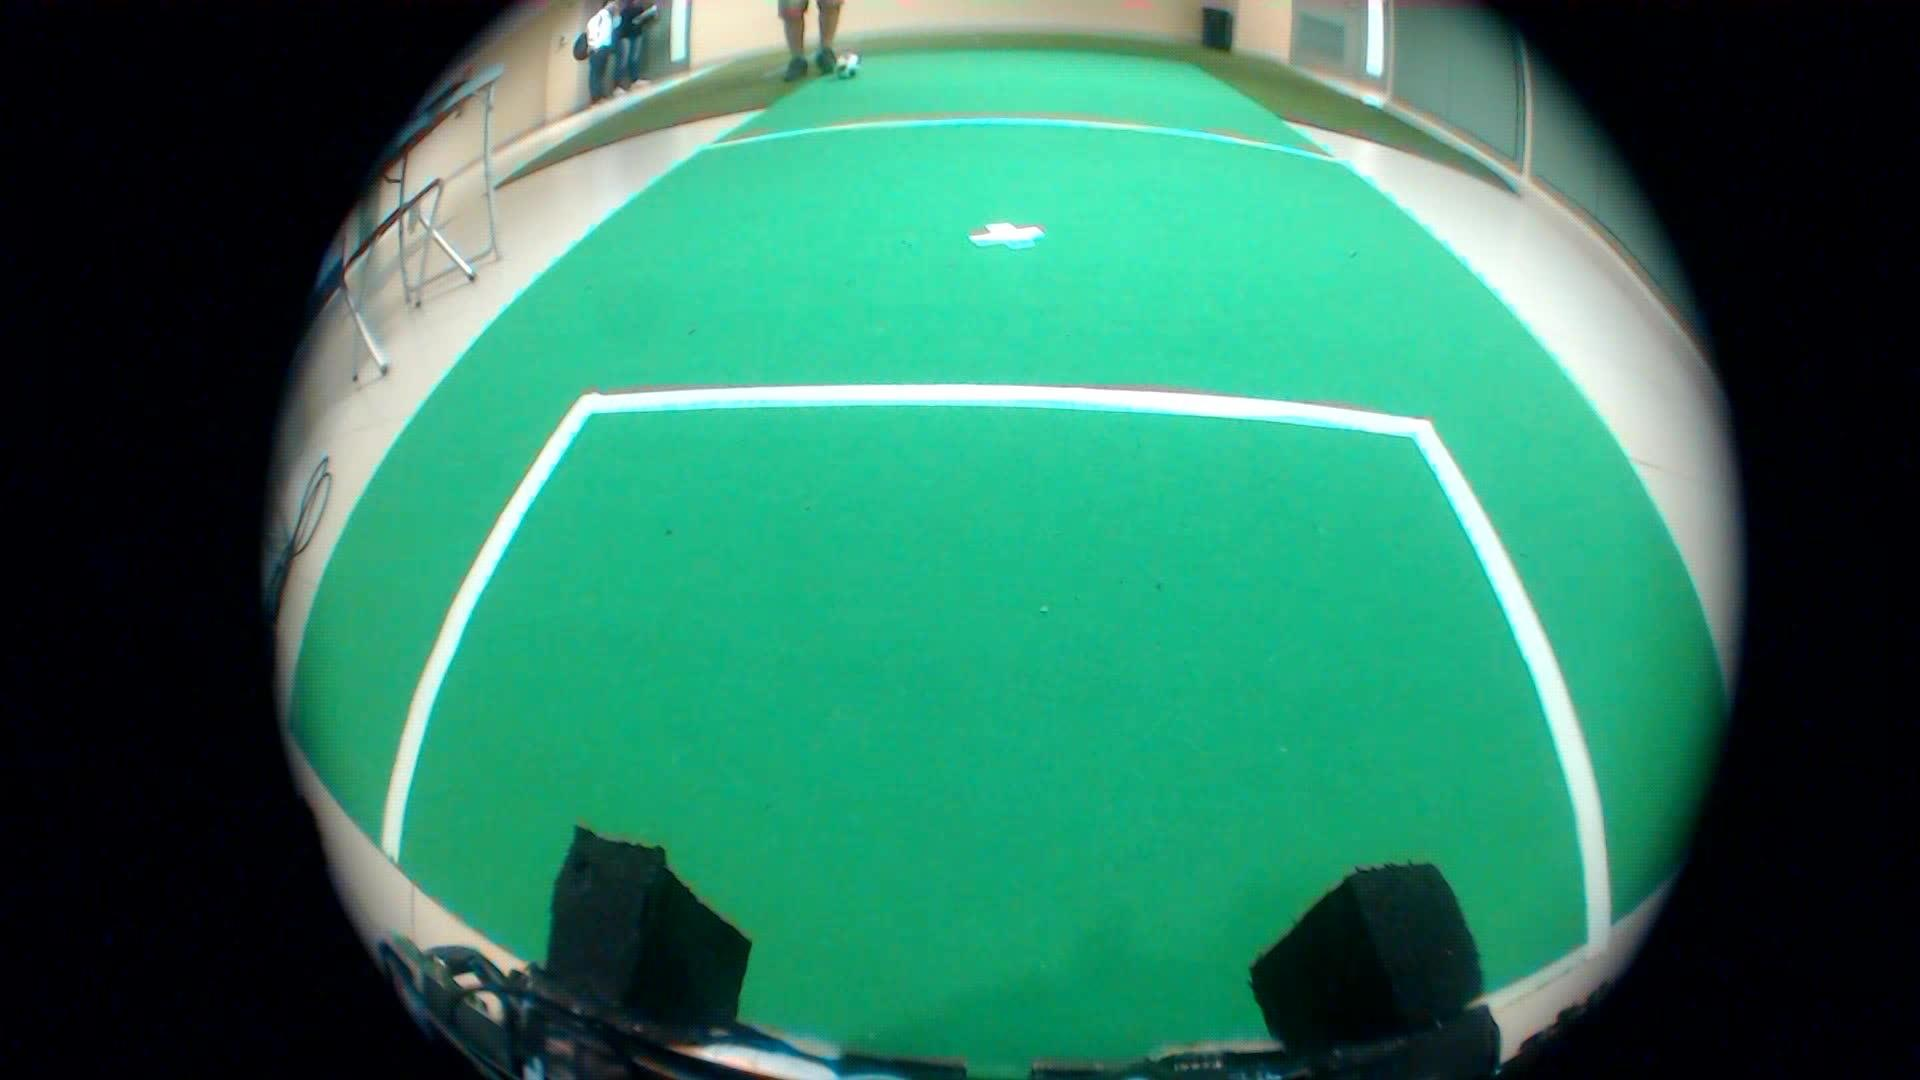ball: (833, 47, 866, 86)
